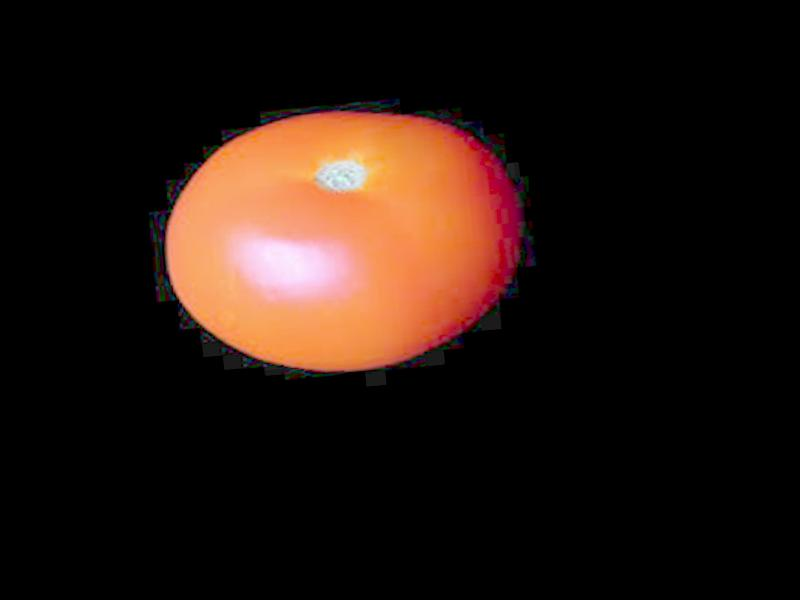Tomato: (154, 96, 531, 386)
